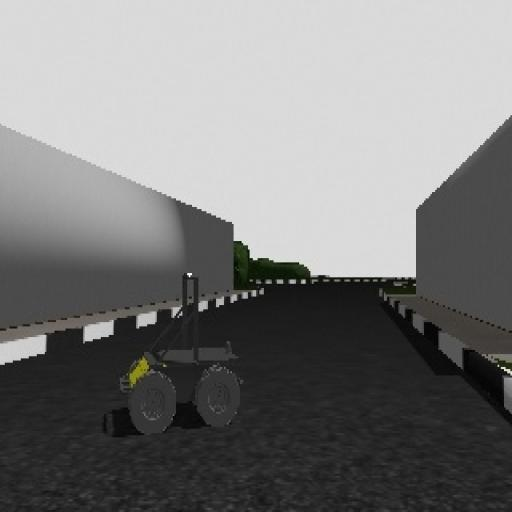huskya200: (108, 257, 248, 440)
